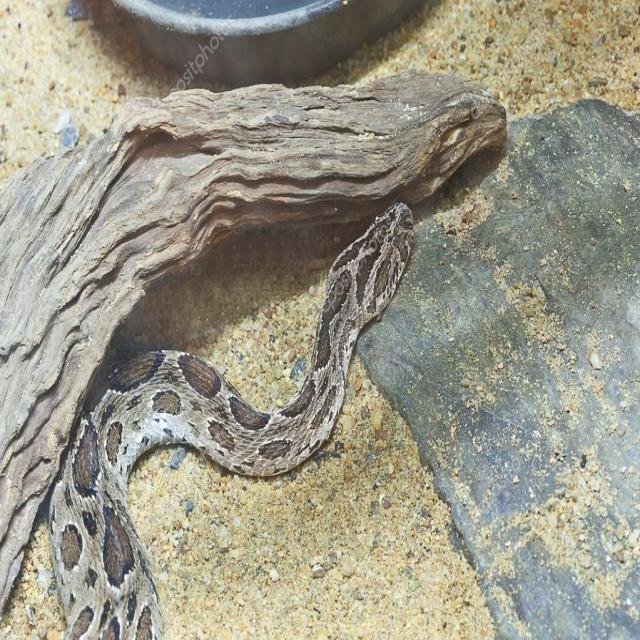Snake: (47, 199, 415, 638)
